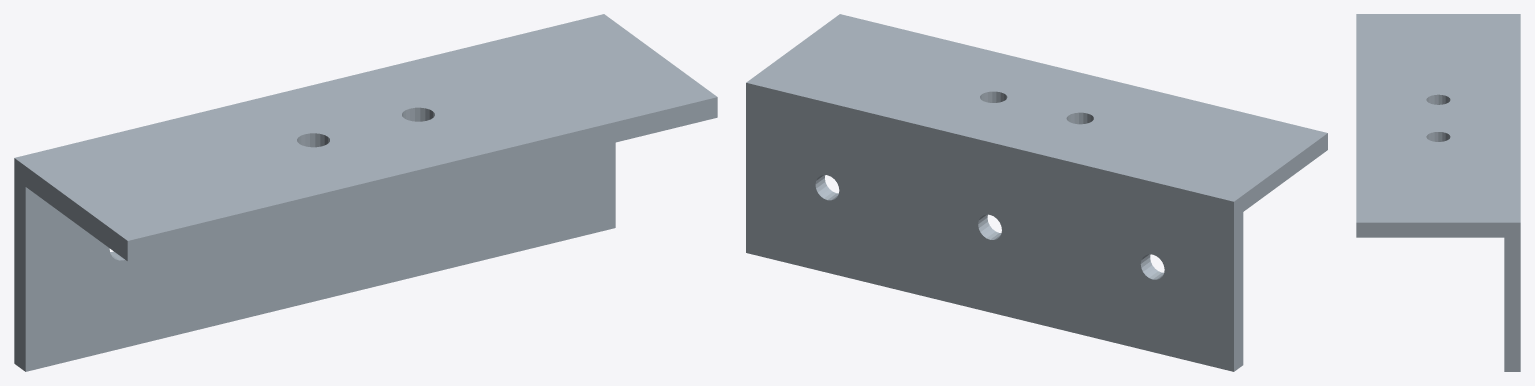
Rendered from shop_s010005.gltf.
3 views of the same model, side by side, from view 1: azimuth 30°, elevation 25°; view 2: azimuth 150°, elevation 25°; view 3: azimuth 270°, elevation 25° (orthographic). The views are drawn at different scales.
Visible parts, largest first — view 1: 100065_L150*15; view 2: 100065_L150*15; view 3: 100065_L150*15.
Part boxes in pixels (bbox=[...]): 100065_L150*15: bbox=[14, 14, 717, 371]; 100065_L150*15: bbox=[746, 14, 1327, 371]; 100065_L150*15: bbox=[1356, 14, 1520, 371].
Size of the model in its own units: 0.45 by 0.15 by 0.15.
